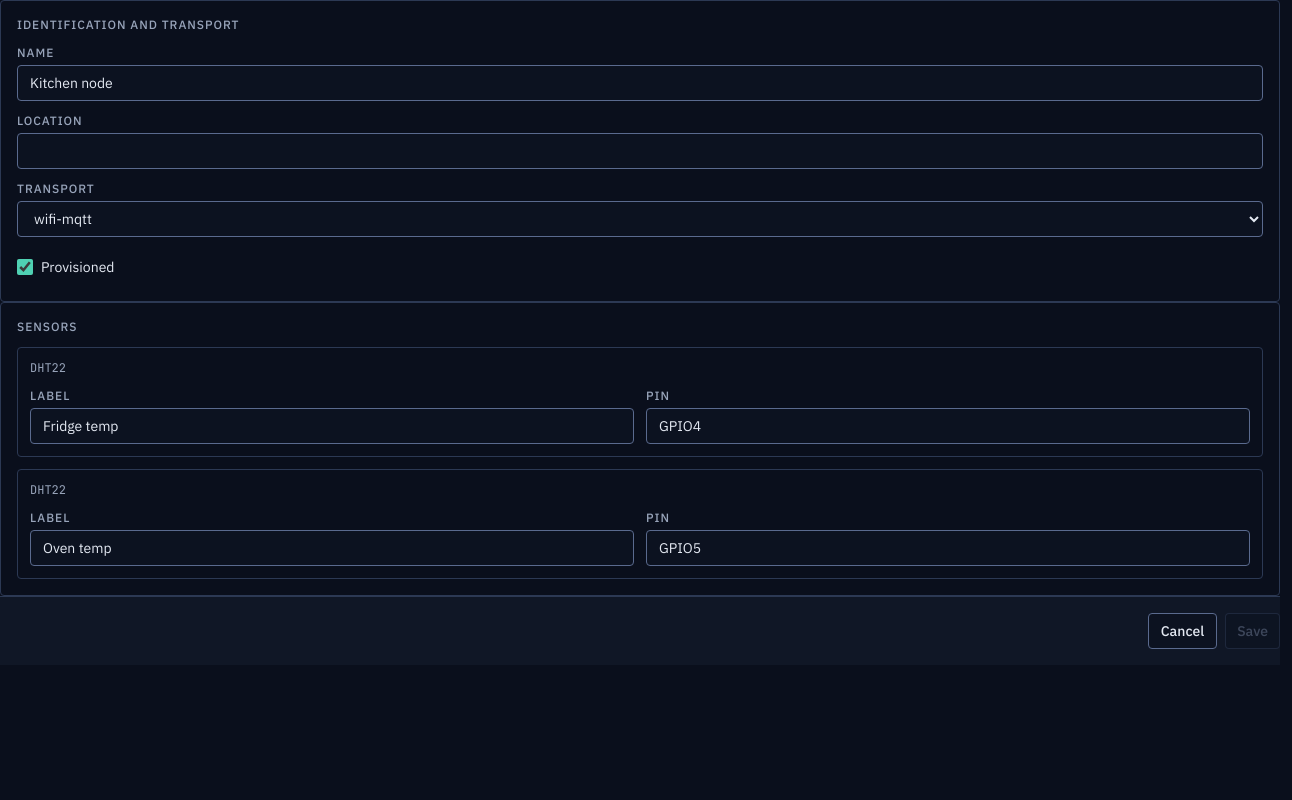
it: DeviceConfigContainer › keeps the footer Save disabled while any update is still pending
Replace the text in the 1st field labelled "Label" with "Freezer temp" at (332,426), box [30, 408, 634, 444]
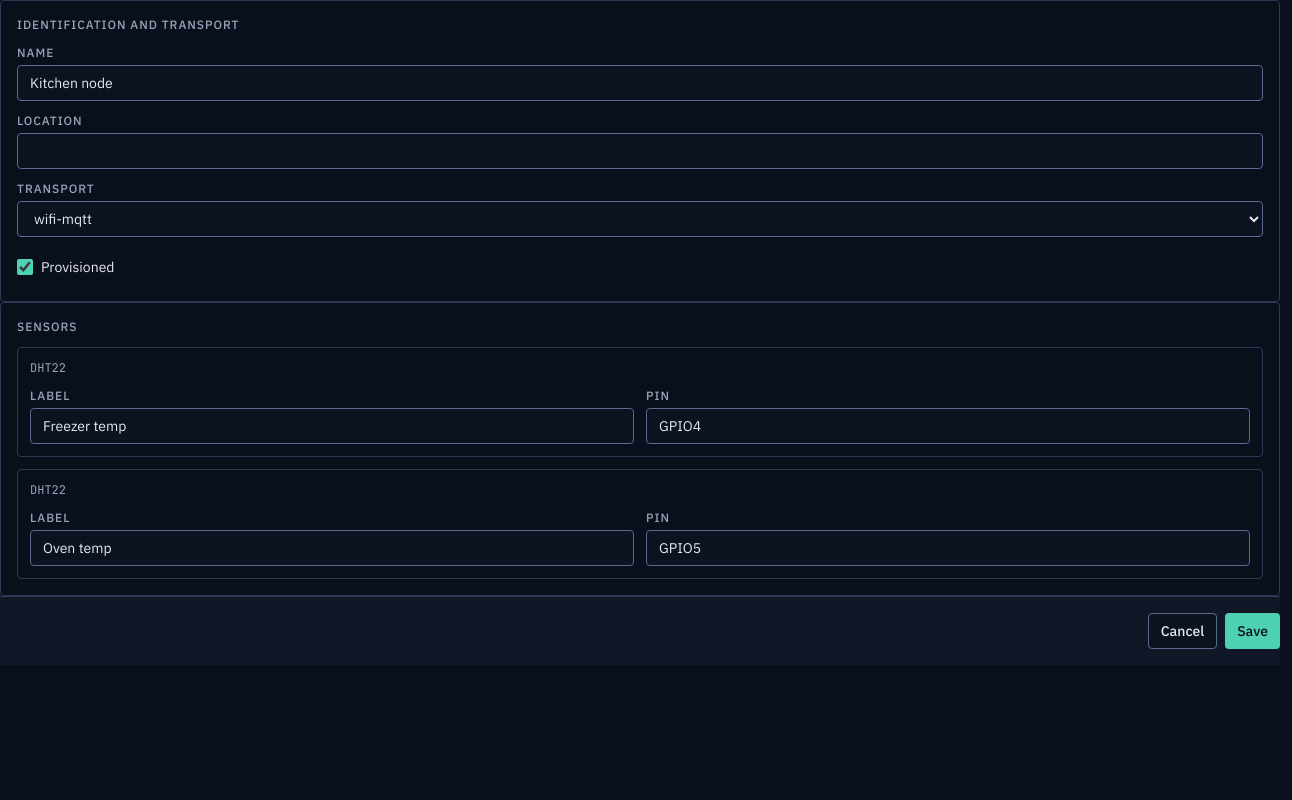
Replace the text in the 2nd field labelled "Label" with "Pantry temp" at (332,548), box [30, 530, 634, 566]
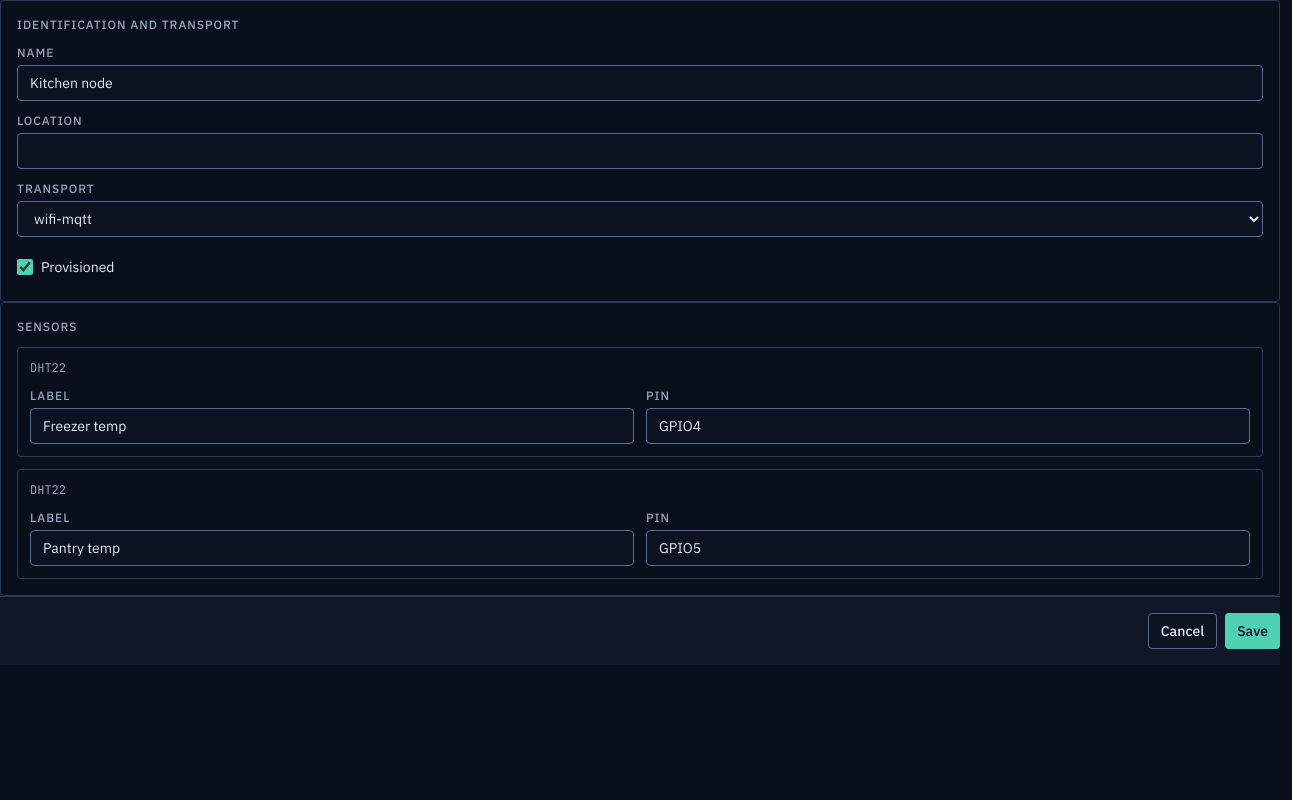
Click the button "Save" at (1253,631), box [1225, 613, 1280, 649]
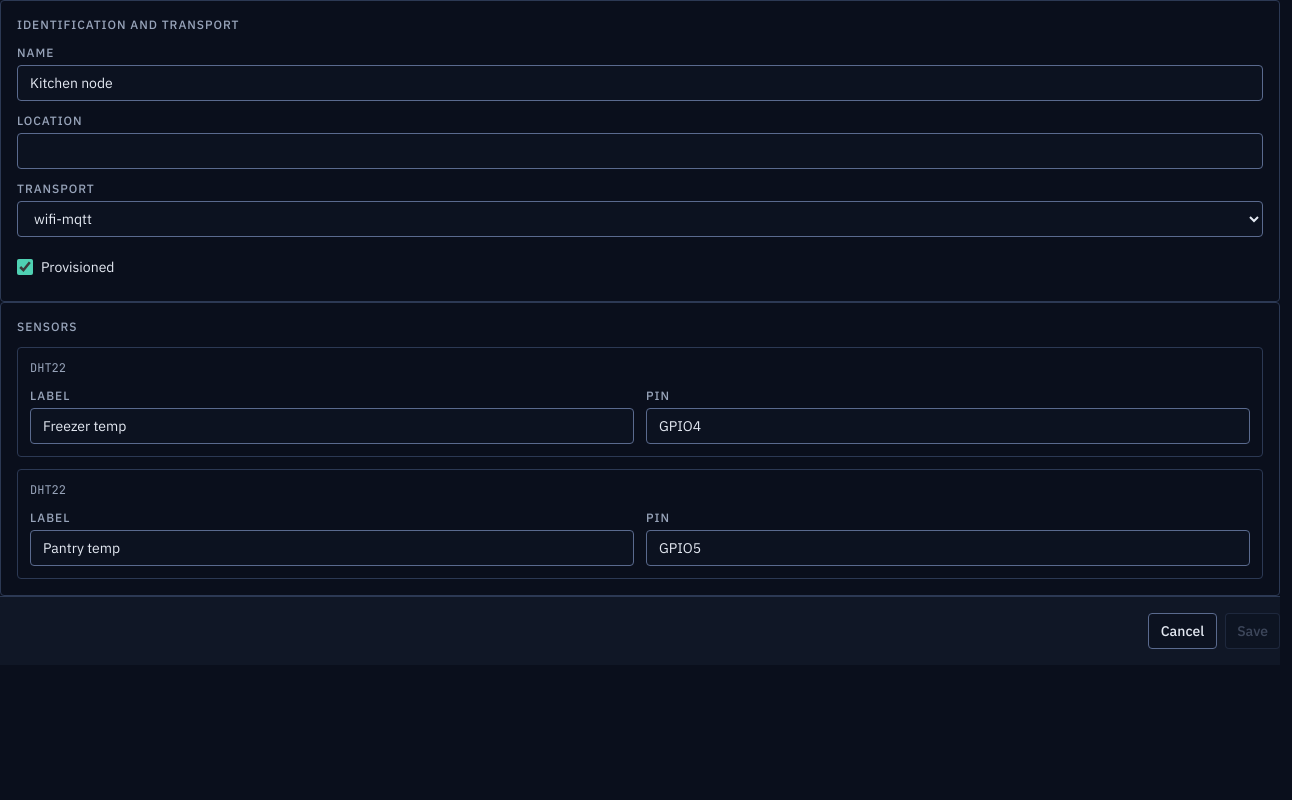
Check: the button "Save" is disabled, box [1225, 613, 1280, 649]
